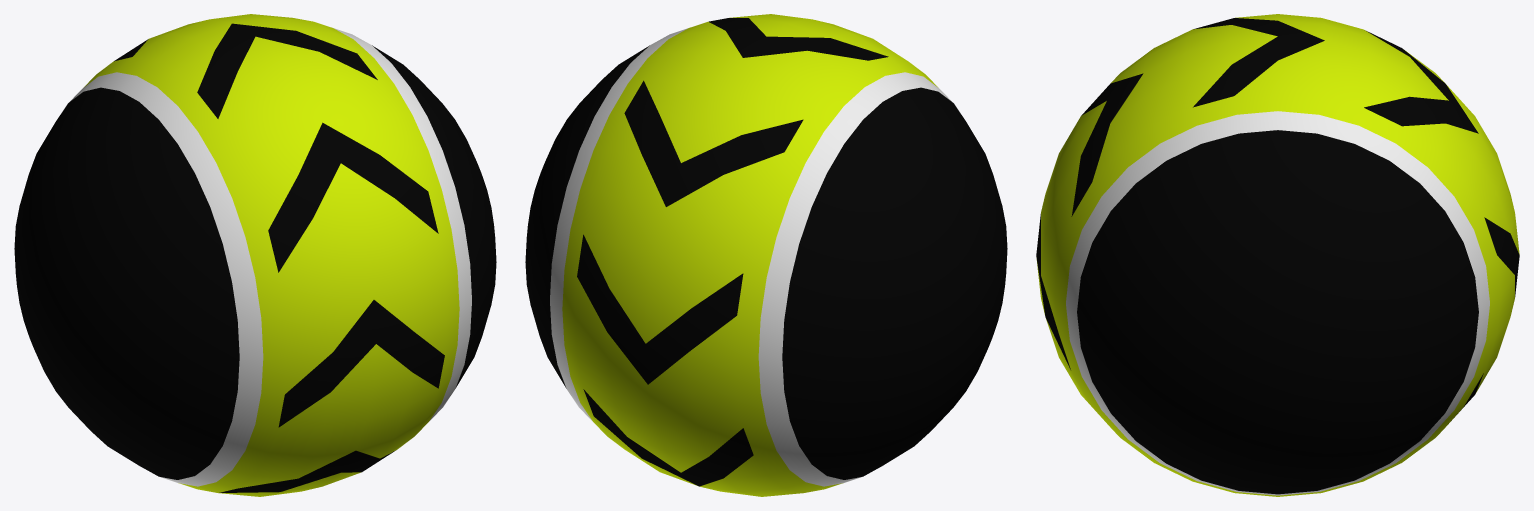
The model's file is ball.fbx.
The picture shows the model from 3 angles, left to right: view 1: azimuth 30°, elevation 25°; view 2: azimuth 150°, elevation 25°; view 3: azimuth 270°, elevation 25°; orthographic projection.
Parts seen in each view (by area): view 1: Sphere; view 2: Sphere; view 3: Sphere.
Part boxes in pixels (x1,y1,x2,y2): Sphere: (14, 14, 496, 496); Sphere: (525, 14, 1007, 496); Sphere: (1036, 14, 1519, 496).
Size of the model in its own units: 200 by 200 by 200.
